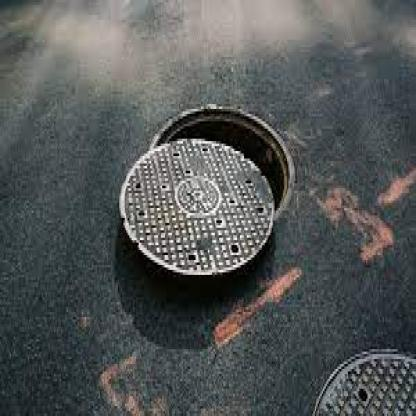open manhole-not overflowing-: (122, 72, 297, 290)
